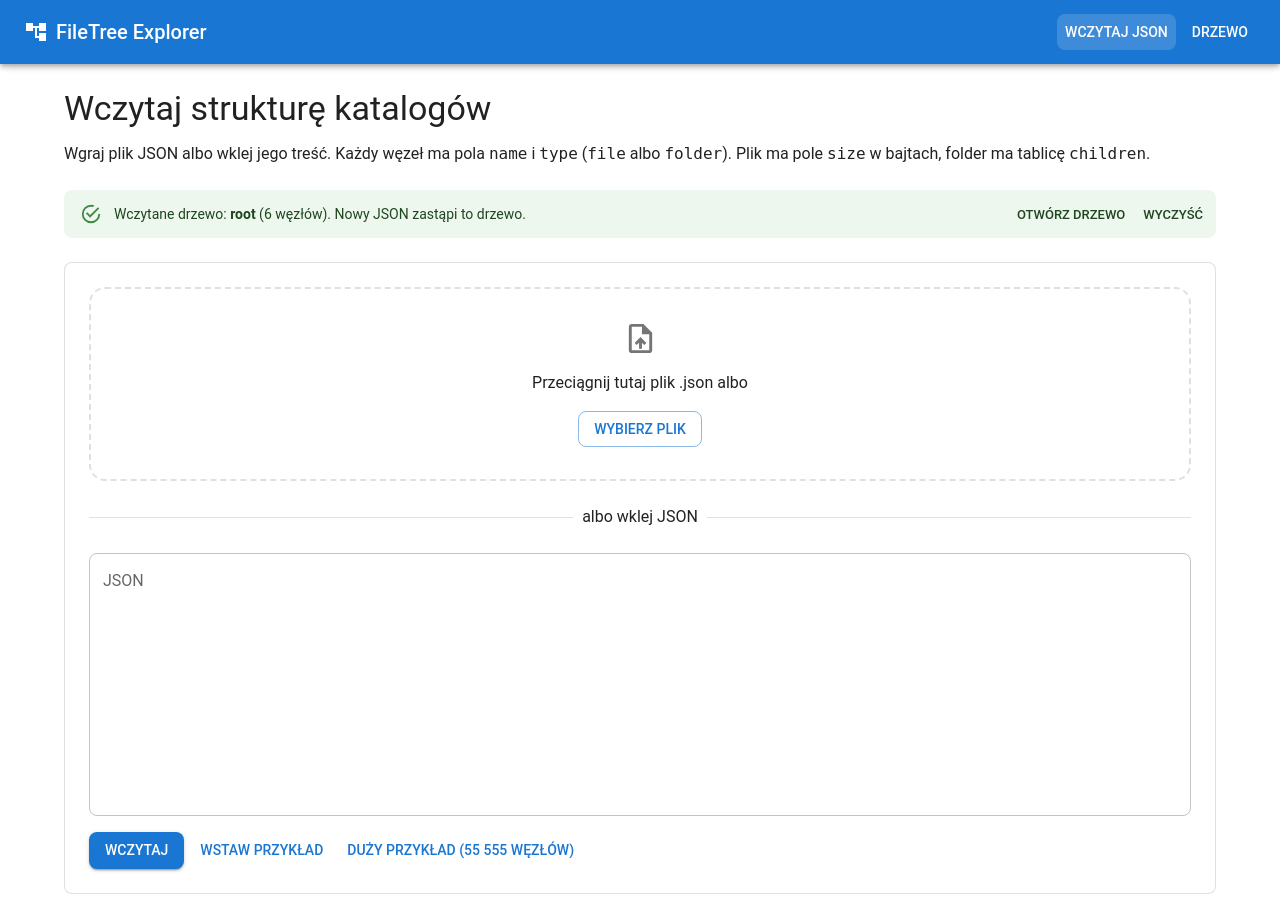
Scenario: HomePage › shows the loaded tree and clears it after confirmation
The width and height of the screenshot is (1280, 900).
Check: the text "Wczytane drzewo:" shows "root (6 węzłów)", box [114,206,526,222]
Click the button "Wyczyść" at coordinates (1173, 215), box [1138,200,1208,231]
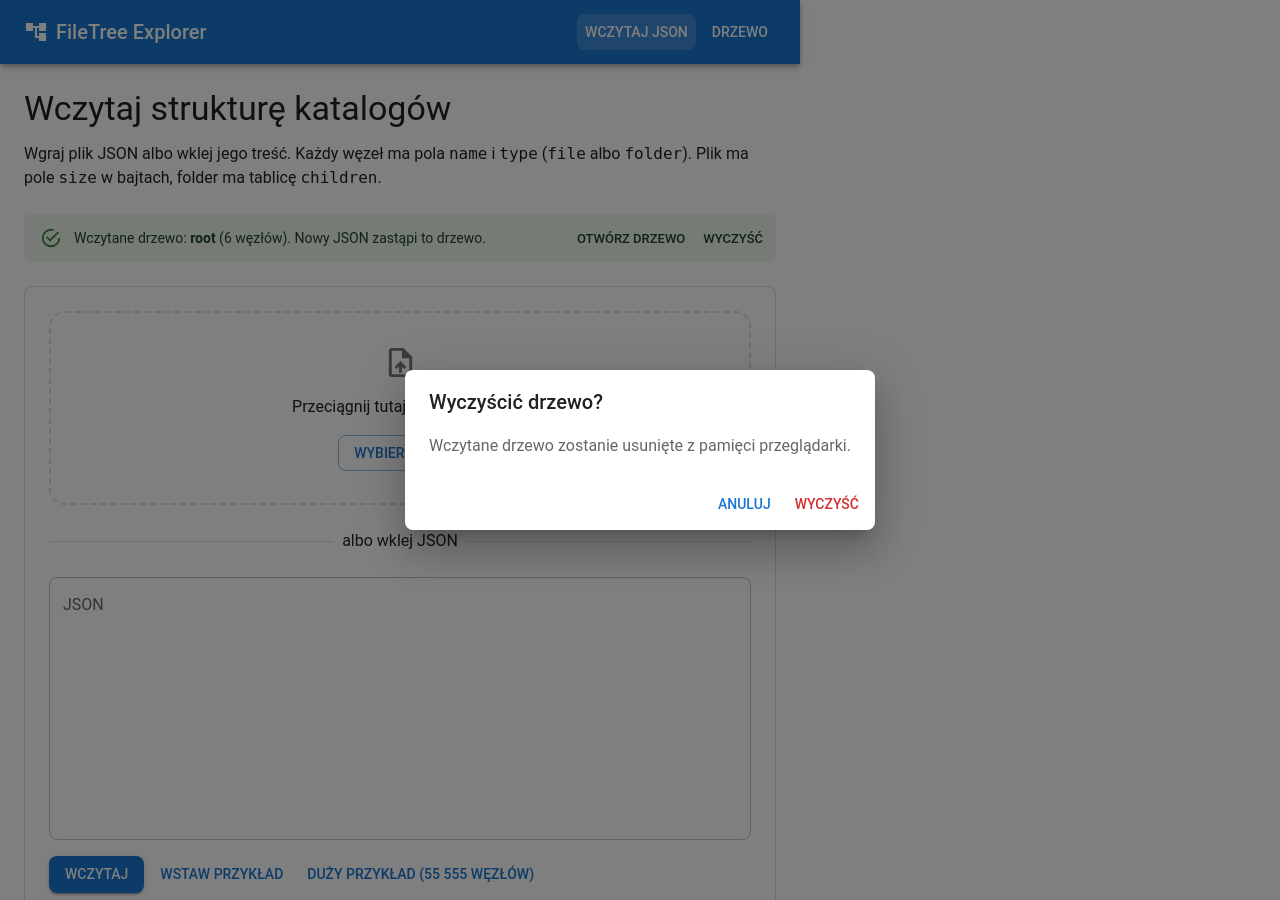
Click the button "Wyczyść" at coordinates (827, 504), box [787,486,867,522]
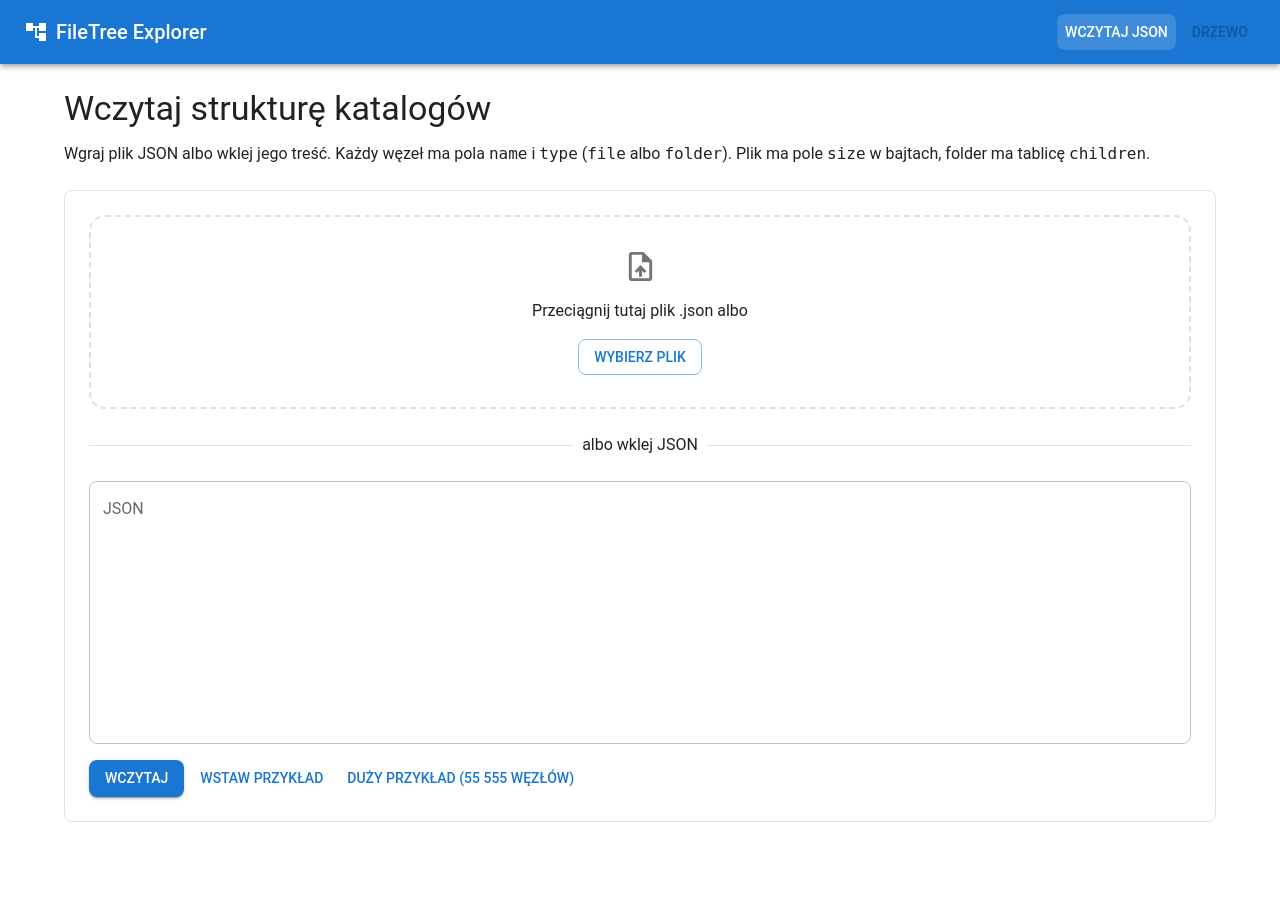
Check: the text "Wczytane drzewo:" is gone
